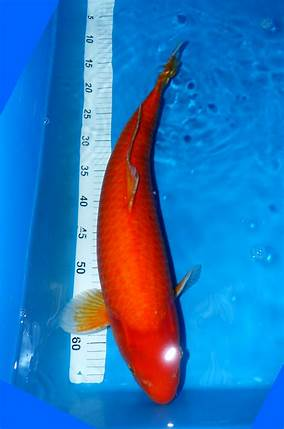red: (57, 40, 196, 406)
